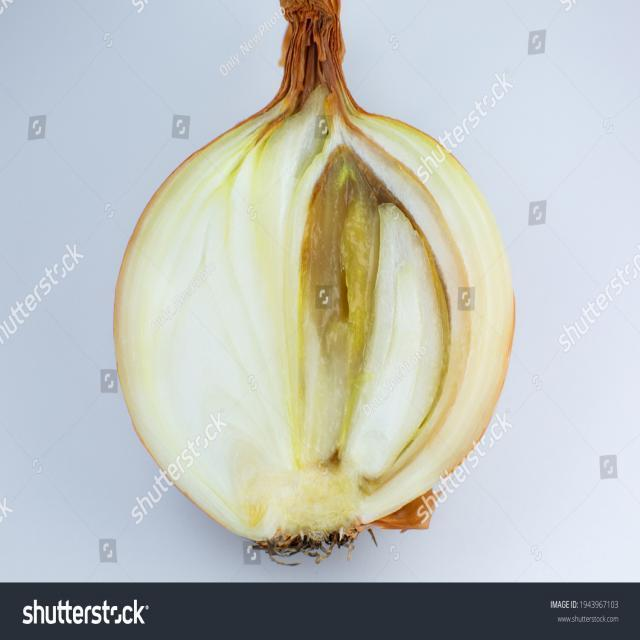Onion: (113, 2, 520, 570)
